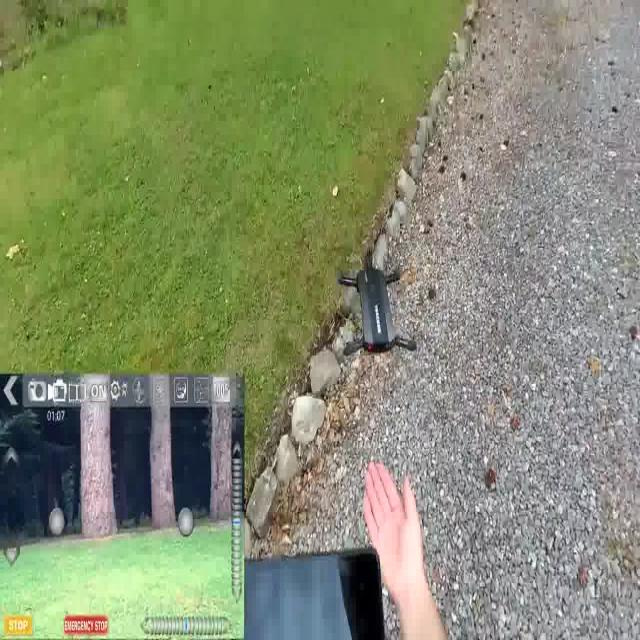Drone_FW: (335, 255, 419, 357)
